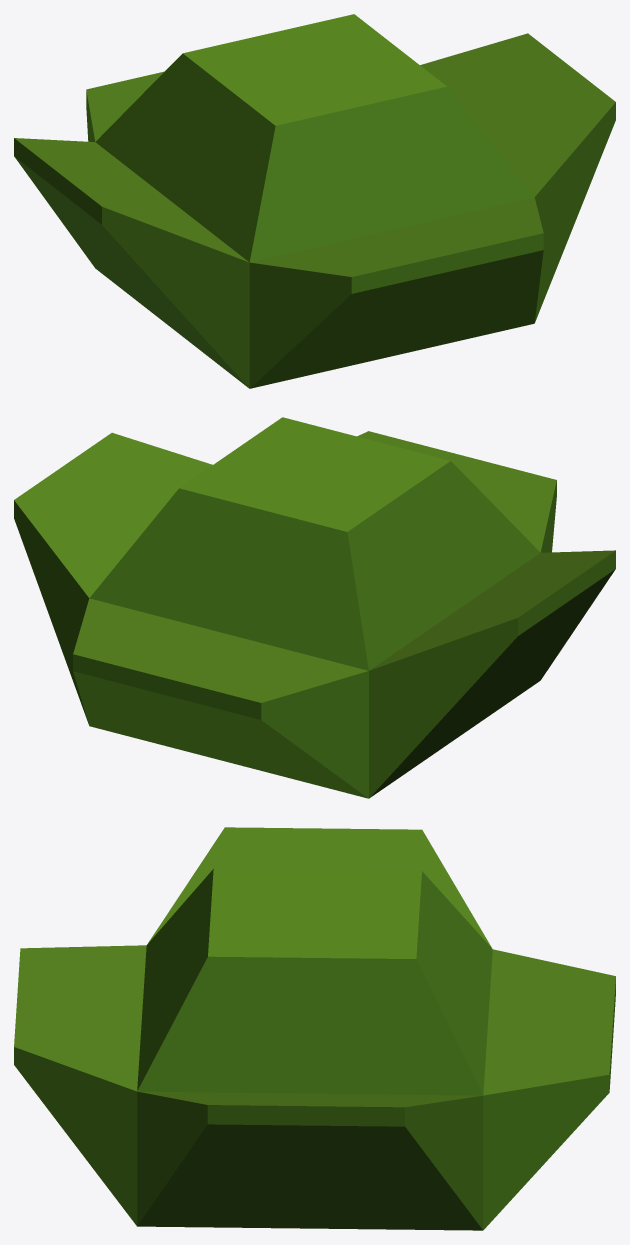
File: Cabbage_02.gltf
3 renders of one model, top to bottom at view 1: azimuth 30°, elevation 25°; view 2: azimuth 150°, elevation 25°; view 3: azimuth 270°, elevation 25°, orthographic. The views are drawn at different scales.
Visible parts, largest first — view 1: SF_Prop_Cabbage_02; view 2: SF_Prop_Cabbage_02; view 3: SF_Prop_Cabbage_02.
Part boxes in pixels (<box>): SF_Prop_Cabbage_02: <box>14,14,615,388</box>; SF_Prop_Cabbage_02: <box>14,417,615,798</box>; SF_Prop_Cabbage_02: <box>14,827,615,1230</box>.
Size of the model in its own units: 0.00876 by 0.00371 by 0.00838.
Materials: 1 (1 with a texture image).
